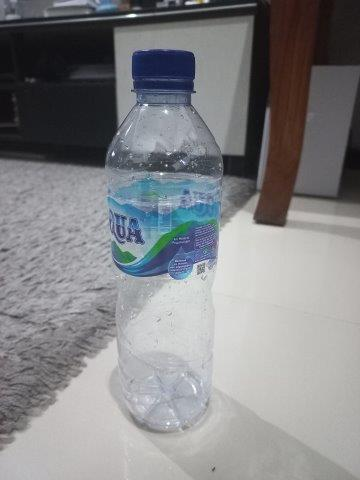botolplastik: (105, 49, 223, 428)
